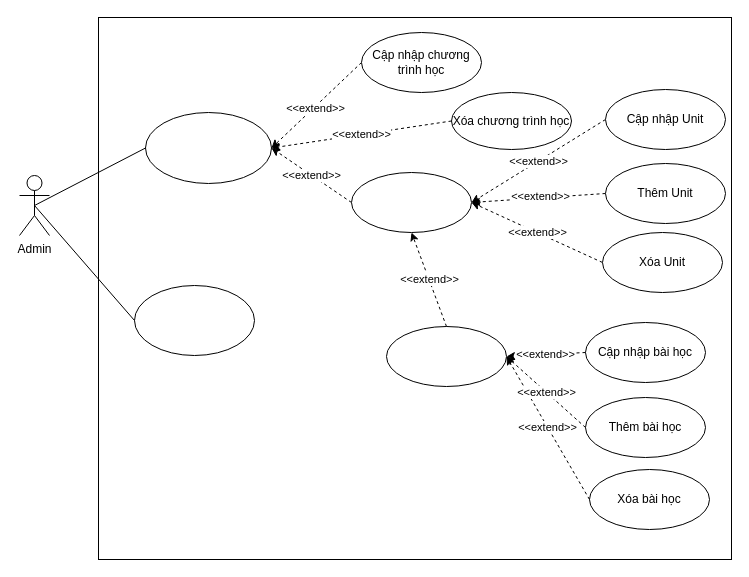
Some shapes in this 749 by 577 pixel diagram are drawn without their labels. Each missing label, with the centre of its shape:
"Quản lý bài học" goes at (x=446, y=356).
"Quản lý Unit" goes at (x=411, y=202).
"Tạo mới chương trình học" goes at (x=194, y=320).
"Xem danh sách chương trình học" goes at (x=208, y=148).
